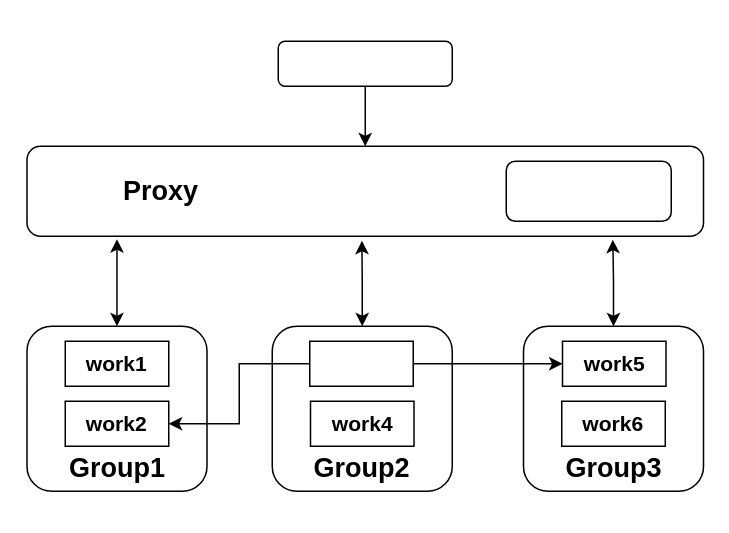
The diagram is 729 pixels wide and 533 high, and some of its shapes have lost their labels. The shapes that lost their labels are listed below. From the top down, each one's centre as x and y in pixels, then its label:
At pixel 364 63: "request".
At pixel 588 190: "Etcd".
At pixel 360 363: "work3".
